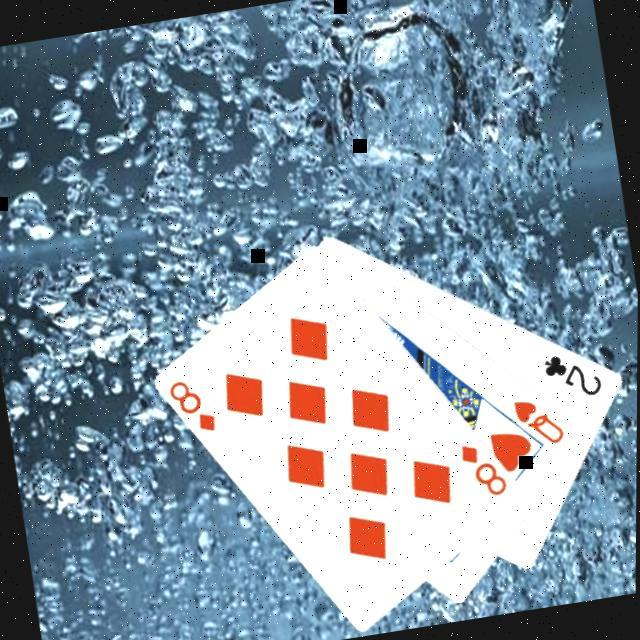2C: (538, 343, 608, 406)
8D: (456, 434, 513, 504), (164, 370, 221, 440)
QH: (509, 388, 569, 452)
